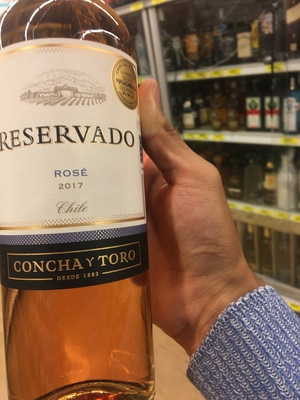reservado rose: (2, 8, 152, 400)
